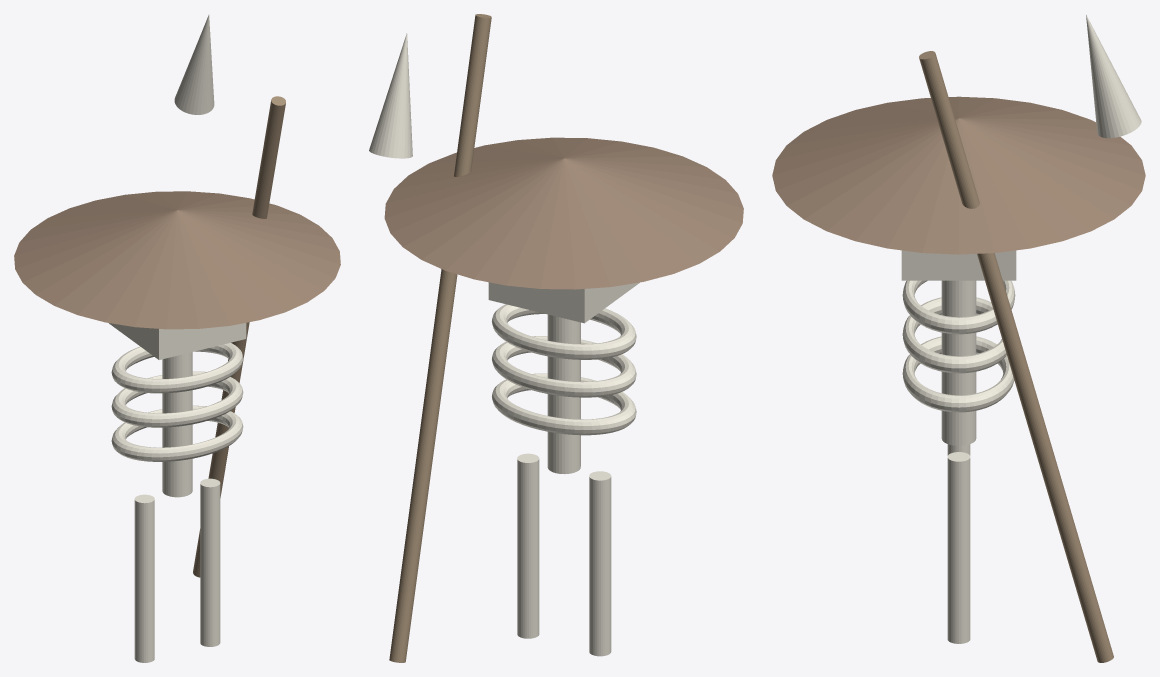
Rendered from enemy_skeleton.glb.
3 renders of one model, left to right at view 1: azimuth 30°, elevation 25°; view 2: azimuth 150°, elevation 25°; view 3: azimuth 270°, elevation 25°, orthographic. The views are drawn at different scales.
Parts seen in each view (by area): view 1: JingasaHat, Cylinder.002, Cylinder.003, Cylinder.001, Cylinder, Torus, Skull, Torus.002, Torus.001, Cone; view 2: JingasaHat, Cylinder.001, Cylinder.002, Cylinder.003, Cylinder, Torus, Skull, Torus.002, Torus.001, Cone; view 3: JingasaHat, Cylinder.001, Cylinder.003, Cylinder, Cone, Torus.002, Skull, Torus.001, Torus.
Boxes of the visible parts, bbox=[...] form: JingasaHat: bbox=[14, 191, 340, 329]; Cylinder.002: bbox=[134, 494, 154, 662]; Cylinder.003: bbox=[200, 478, 220, 646]; Cylinder.001: bbox=[193, 96, 285, 577]; Cylinder: bbox=[162, 352, 192, 497]; Torus: bbox=[111, 343, 243, 393]; Skull: bbox=[109, 323, 246, 359]; Torus.002: bbox=[111, 405, 243, 461]; Torus.001: bbox=[111, 371, 243, 427]; Cone: bbox=[174, 15, 214, 114]; JingasaHat: bbox=[384, 137, 743, 289]; Cylinder.001: bbox=[389, 14, 491, 662]; Cylinder.002: bbox=[589, 471, 611, 656]; Cylinder.003: bbox=[517, 453, 539, 638]; Cylinder: bbox=[547, 314, 580, 473]; Torus: bbox=[492, 304, 636, 359]; Skull: bbox=[488, 282, 639, 323]; Torus.002: bbox=[492, 373, 636, 435]; Torus.001: bbox=[492, 336, 636, 397]; Cone: bbox=[369, 33, 412, 158]; JingasaHat: bbox=[772, 96, 1145, 254]; Cylinder.001: bbox=[919, 51, 1113, 662]; Cylinder.003: bbox=[947, 452, 970, 643]; Cylinder: bbox=[941, 280, 976, 445]; Cone: bbox=[1086, 14, 1141, 138]; Torus.002: bbox=[902, 336, 1014, 412]; Skull: bbox=[901, 250, 1016, 280]; Torus.001: bbox=[902, 297, 1006, 373]; Torus: bbox=[902, 280, 1015, 334].
Bounding box in the file's own units: 1.3 × 2.52 × 1.3.
